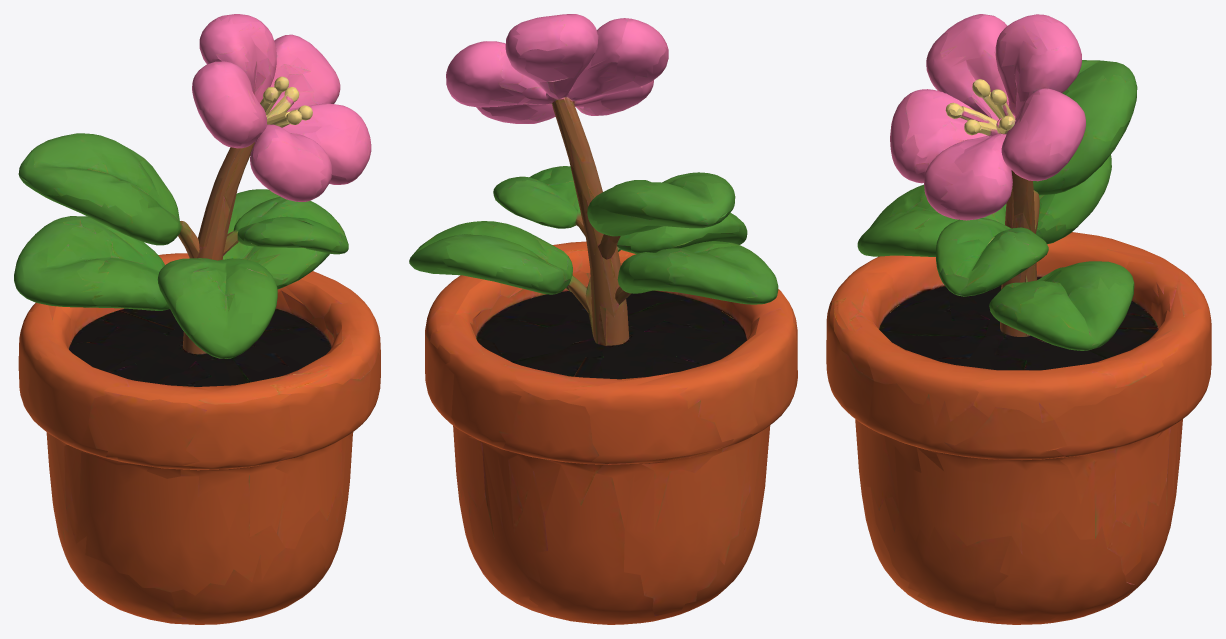
The model's file is bloempot.glb.
3 views of the same model, side by side, from view 1: azimuth 30°, elevation 25°; view 2: azimuth 150°, elevation 25°; view 3: azimuth 270°, elevation 25° (orthographic). The views are drawn at different scales.
Visible parts, largest first — view 1: Mesh_0; view 2: Mesh_0; view 3: Mesh_0.
Part boxes in pixels (x1,y1,x2,y2): Mesh_0: (14, 14, 380, 624); Mesh_0: (409, 14, 797, 624); Mesh_0: (826, 14, 1211, 624).
Size of the model in its own units: 1.2 by 1.9 by 1.13.
1 material, 1 textured.
